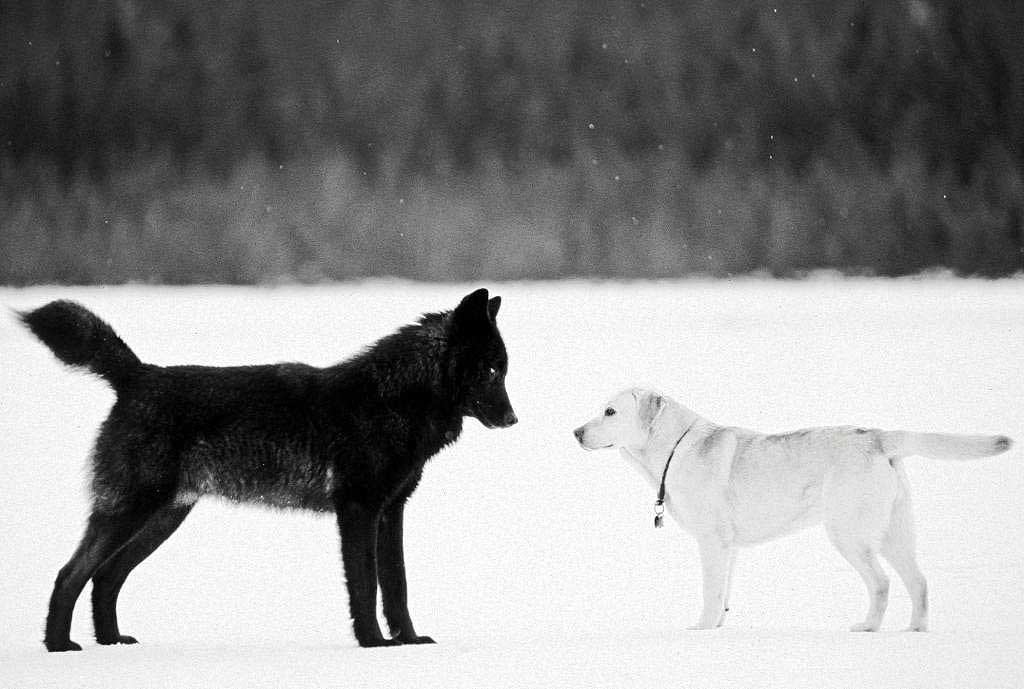Lobo: (15, 244, 526, 673)
